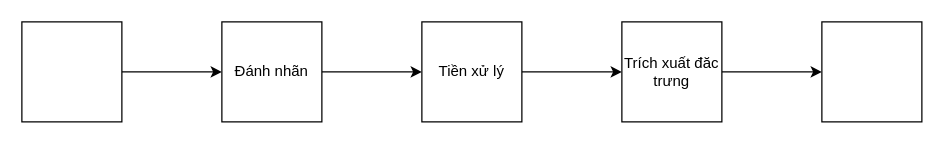
The diagram is 944 pixels wide and 144 high, and some of its shapes have lost their labels. Here are the shapes that lost their labels. From the top down, the box of each, then its label:
(21, 21, 122, 122): Thu thập dữ liệu
(821, 21, 922, 122): Phân loại
